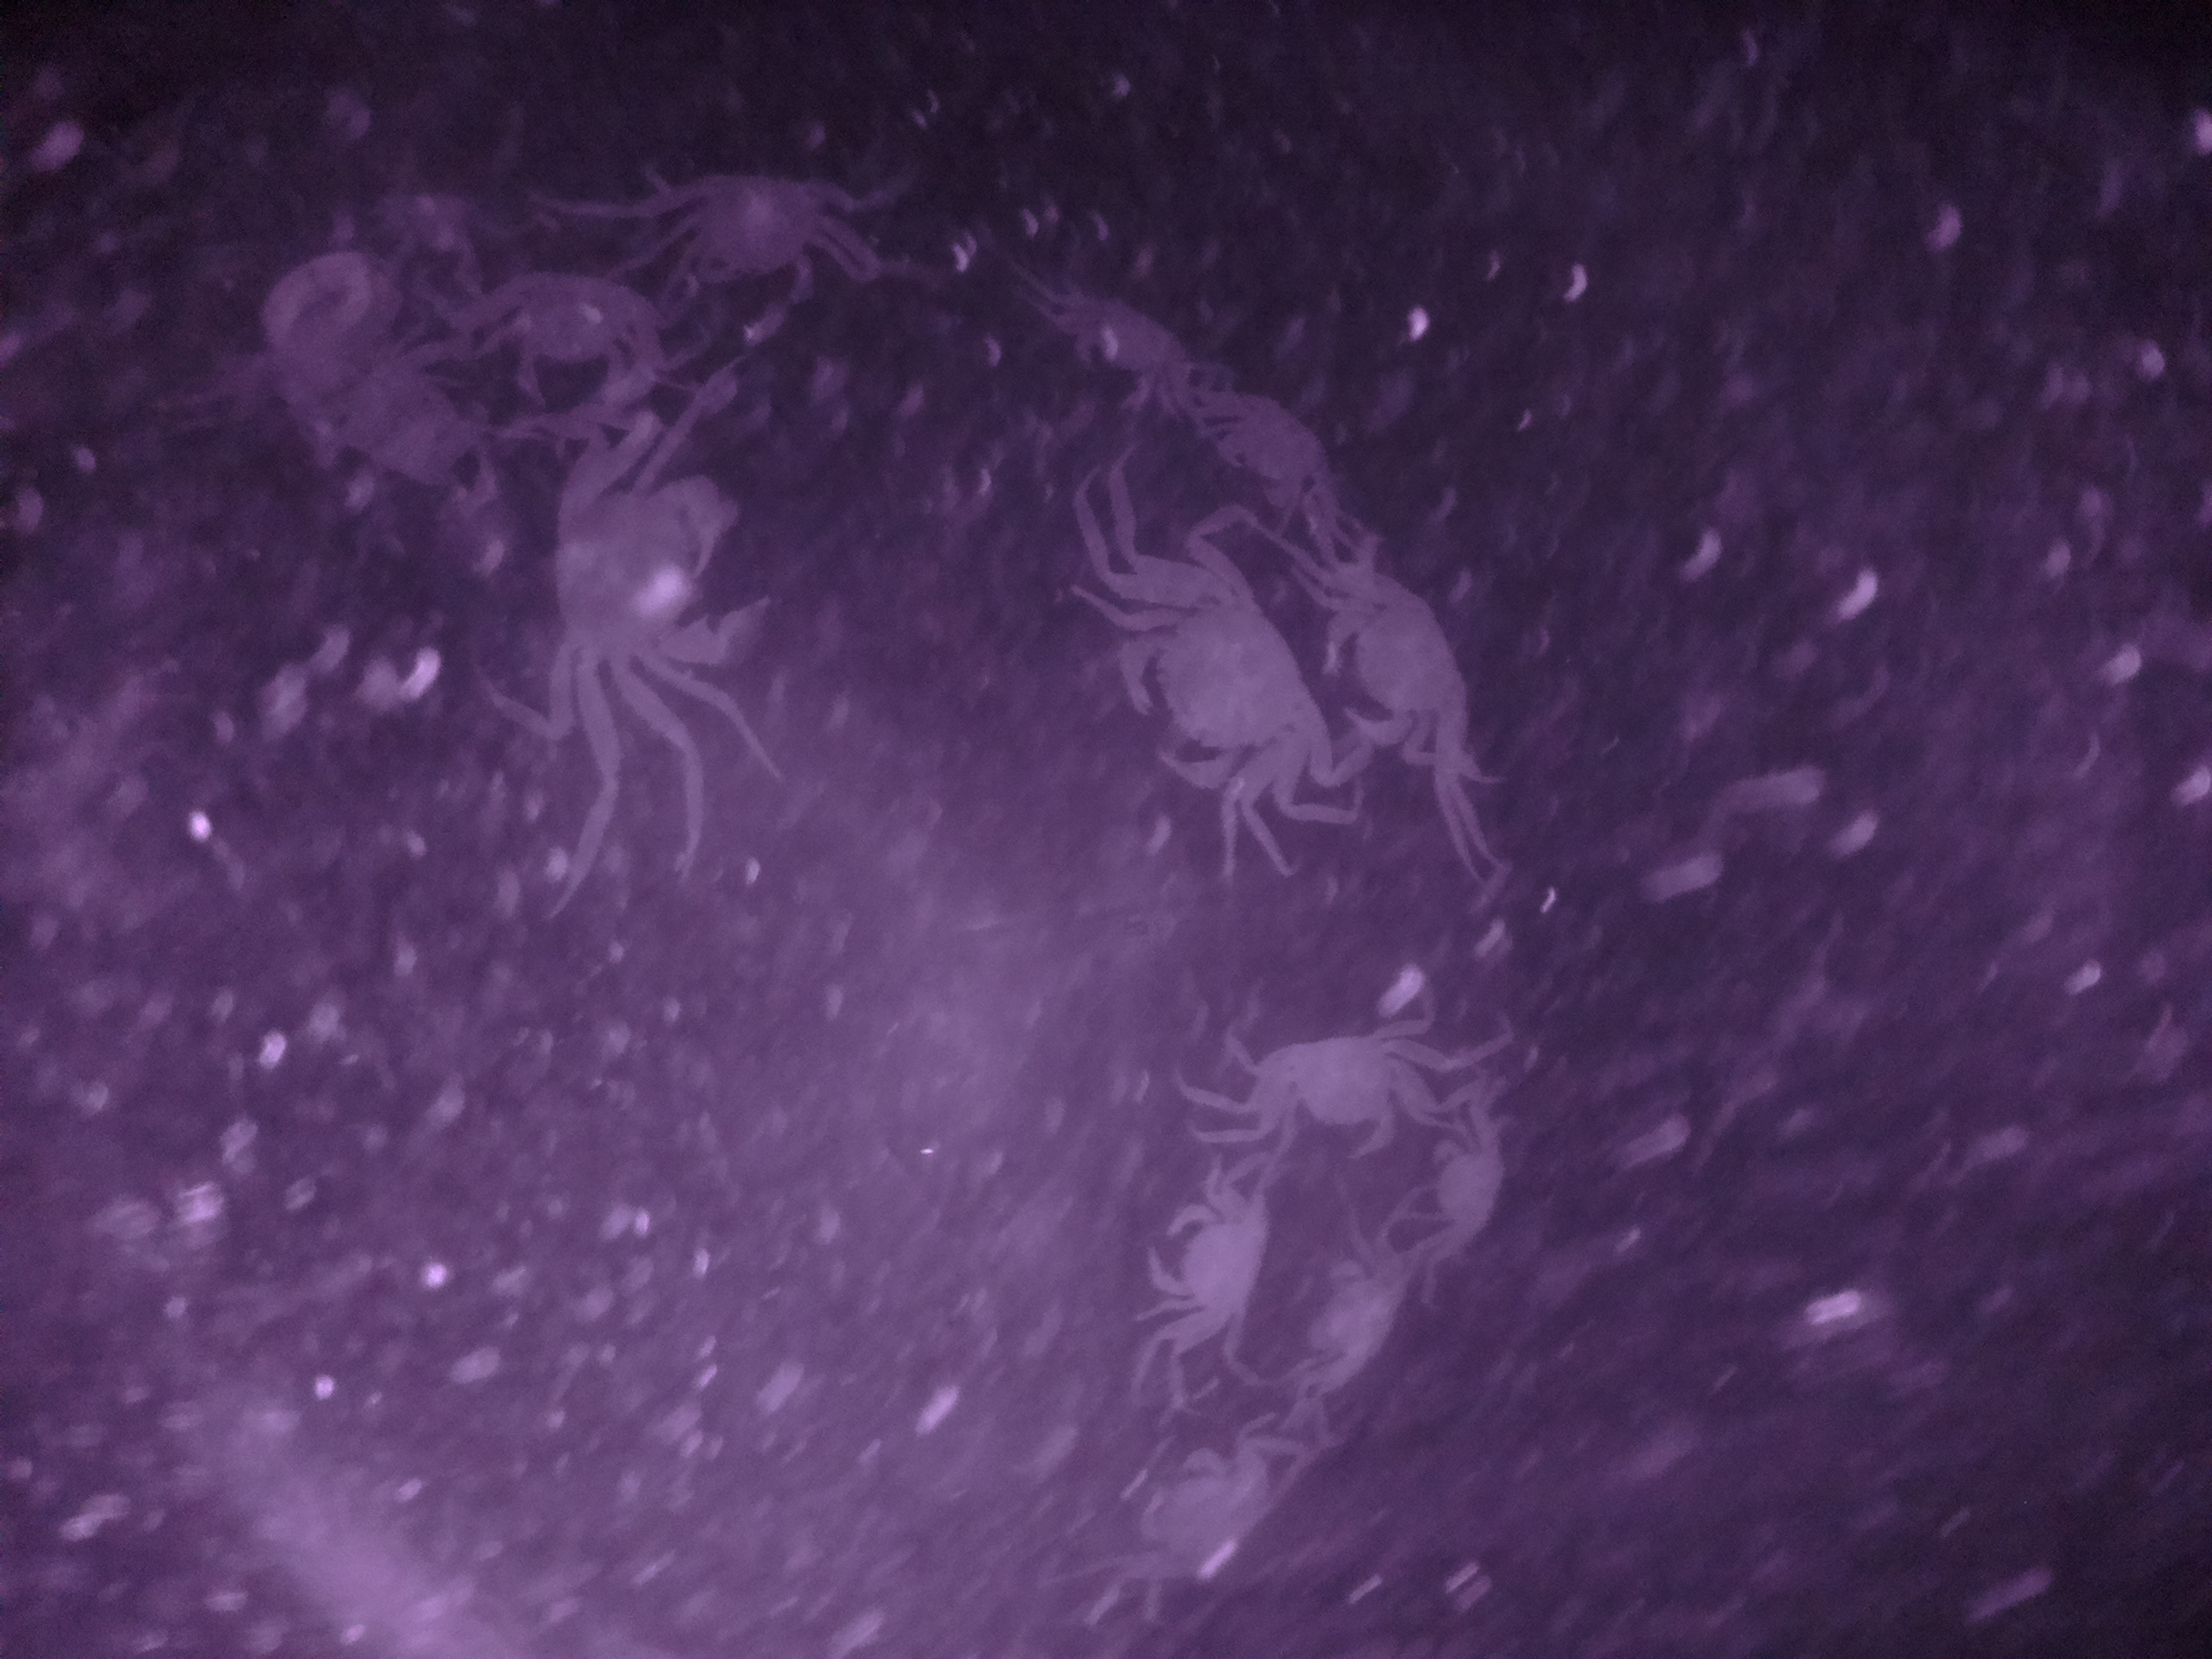Crab: (1089, 544, 1334, 814), (1325, 528, 1494, 807), (1113, 1406, 1289, 1608), (1129, 1159, 1294, 1359), (1221, 1011, 1447, 1157), (1188, 369, 1367, 504), (1052, 268, 1197, 418), (1413, 1121, 1529, 1276)
